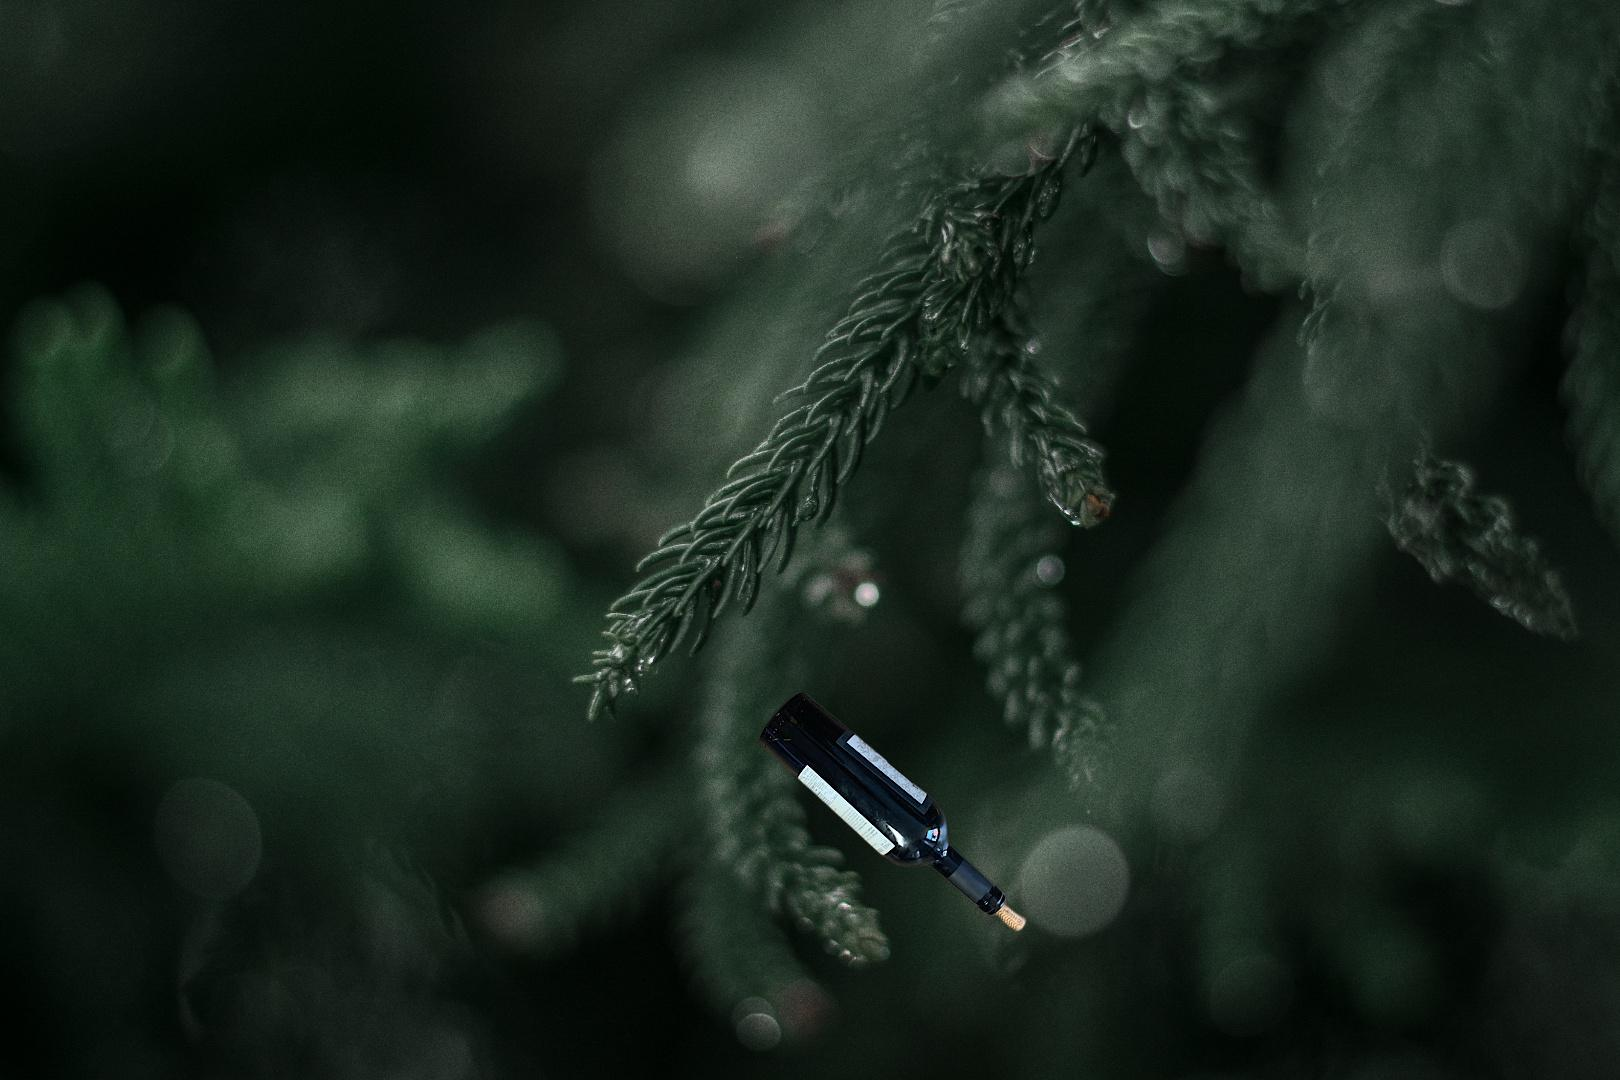glass: (755, 686, 1031, 938)
